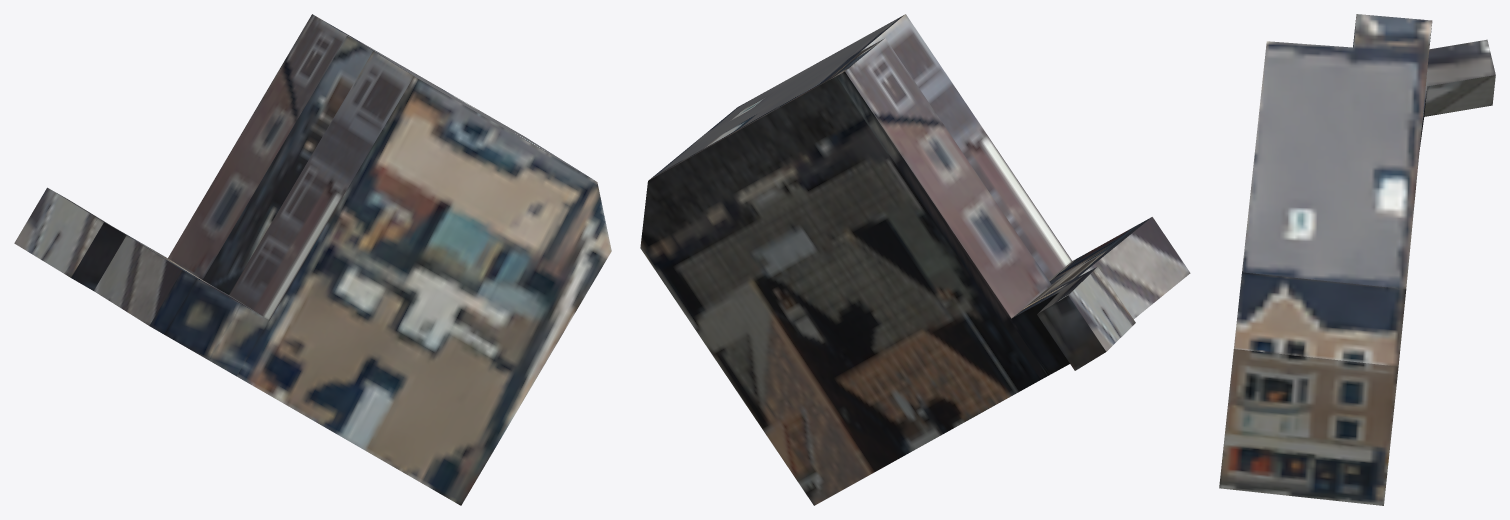
3 renders of one model, left to right at view 1: azimuth 30°, elevation 25°; view 2: azimuth 150°, elevation 25°; view 3: azimuth 270°, elevation 25°, orthographic. The views are drawn at different scales.
Visible parts, largest first — view 1: BAG_0599100000700986 (×5); view 2: BAG_0599100000700986 (×5); view 3: BAG_0599100000700986 (×3).
Boxes of the visible parts, x1,y1,x2,y2 form: BAG_0599100000700986 (×5): (14,14,611,505); BAG_0599100000700986 (×5): (640,14,1190,505); BAG_0599100000700986 (×3): (1219,14,1495,505).
Size of the model in its own units: 21.54 by 19.05 by 10.29.
Materials: 1 (1 with a texture image).
